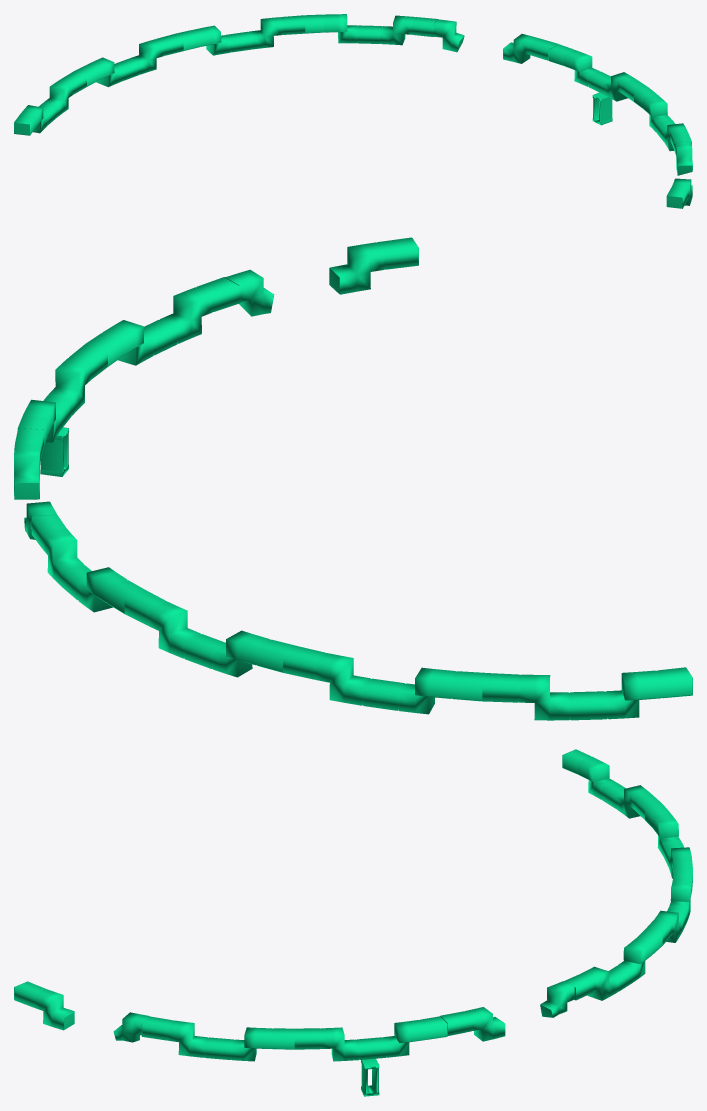
The model's file is Tower_Battlements_02B.fbx.
3 views of the same model, one above another, from view 1: azimuth 30°, elevation 25°; view 2: azimuth 150°, elevation 25°; view 3: azimuth 270°, elevation 25° (orthographic). The views are drawn at different scales.
Parts seen in each view (by area): view 1: Tower_Battlements_02B; view 2: Tower_Battlements_02B; view 3: Tower_Battlements_02B.
Boxes of the visible parts, x1,y1,x2,y2 form: Tower_Battlements_02B: (14, 14, 692, 208); Tower_Battlements_02B: (14, 237, 692, 720); Tower_Battlements_02B: (14, 749, 692, 1096).
Bounding box in the file's own units: 1349 × 139 × 1347.
